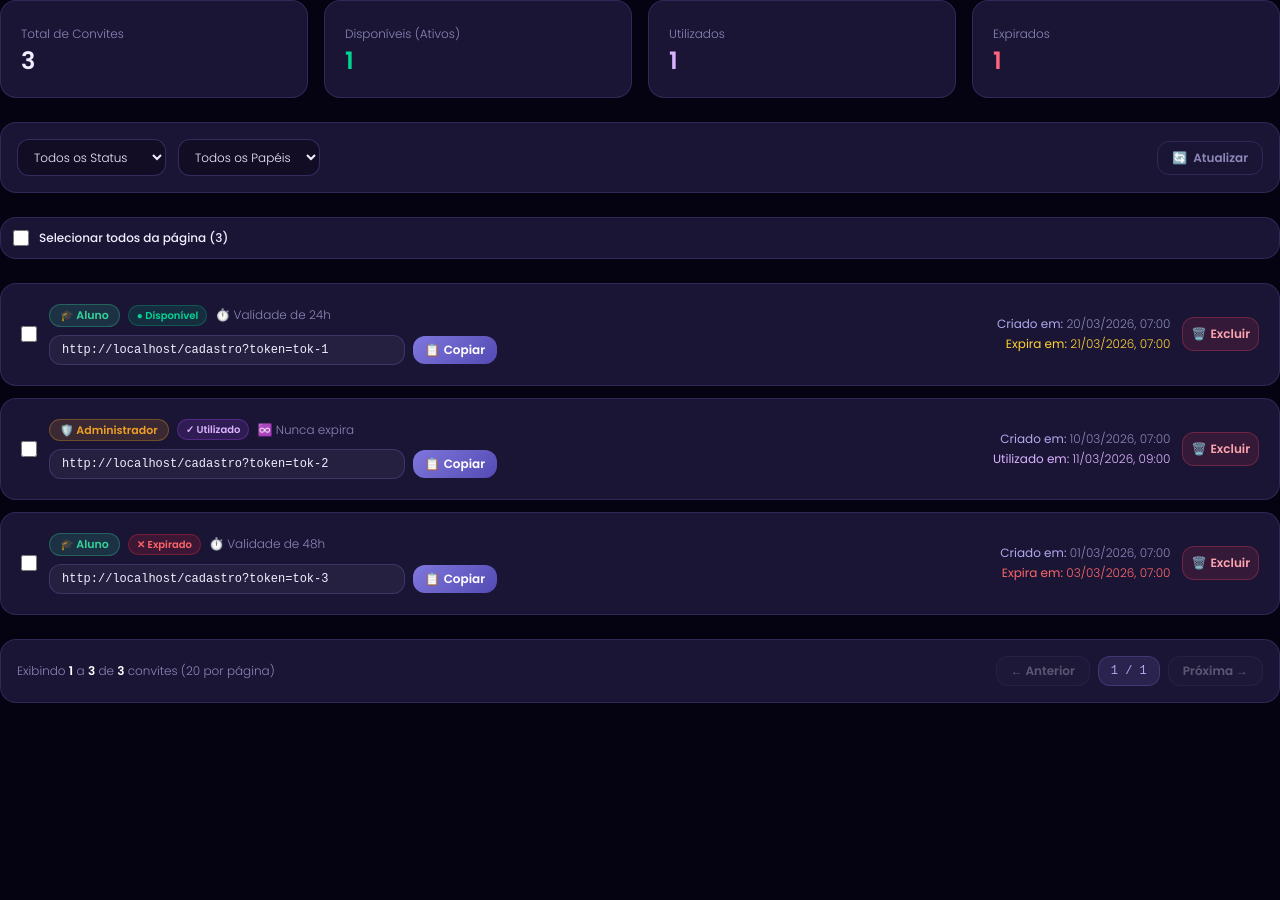
Test case: ListaConvites Component › permite selecionar e desmarcar todos os convites da página via checkbox mestre
This screenshot has width=1280, height=900.
Click the checkbox with test id "select-all-invites-btn".
click(21, 238)  # box top-left (13, 230), bottom-right (29, 246)
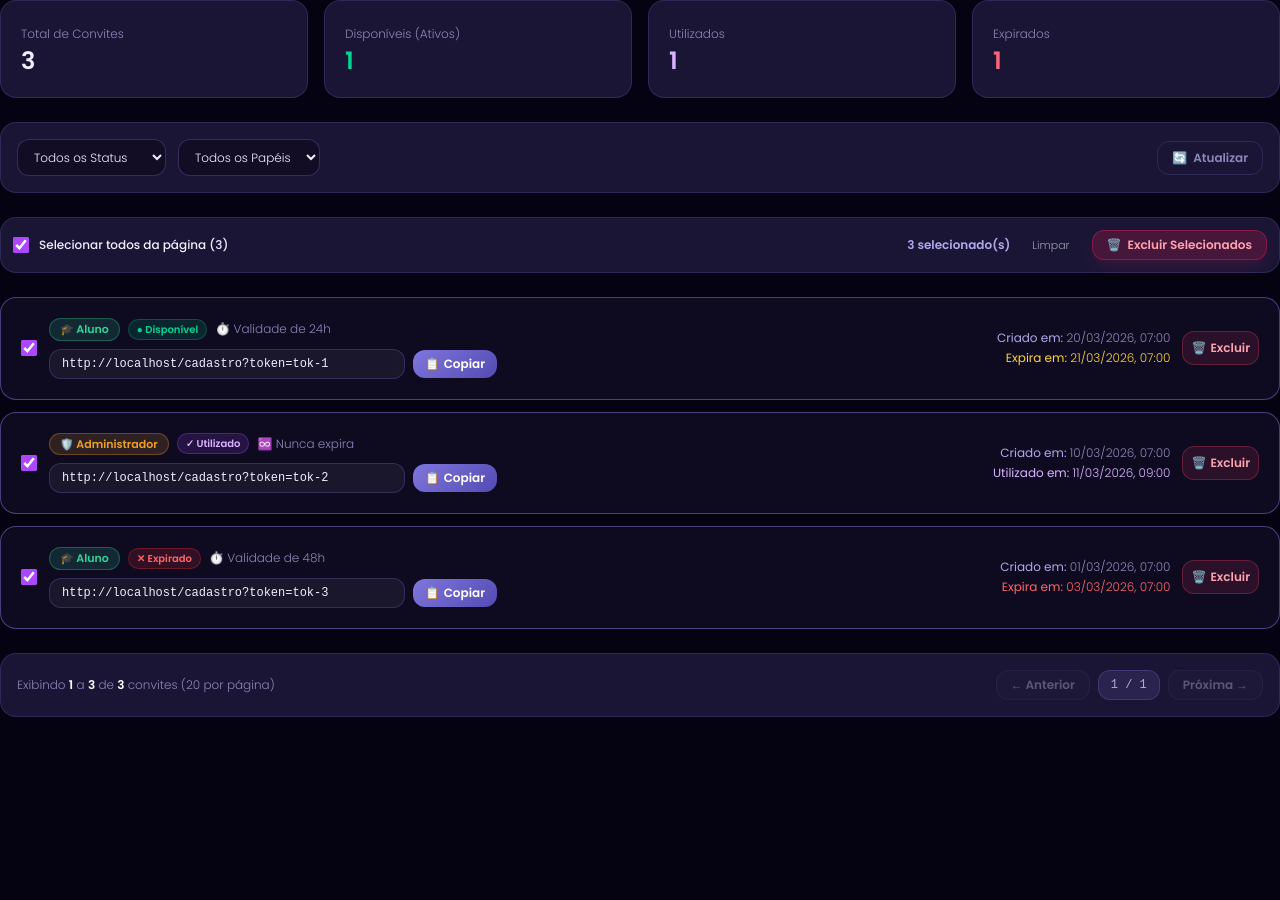
Check: the checkbox with test id "select-invite-inv-1" is checked, box top-left (21, 340), bottom-right (37, 356)
Check: the checkbox with test id "select-invite-inv-2" is checked, box top-left (21, 455), bottom-right (37, 471)
Check: the checkbox with test id "select-invite-inv-3" is checked, box top-left (21, 569), bottom-right (37, 585)
Click the checkbox with test id "select-all-invites-btn".
click(21, 245)  # box top-left (13, 237), bottom-right (29, 253)
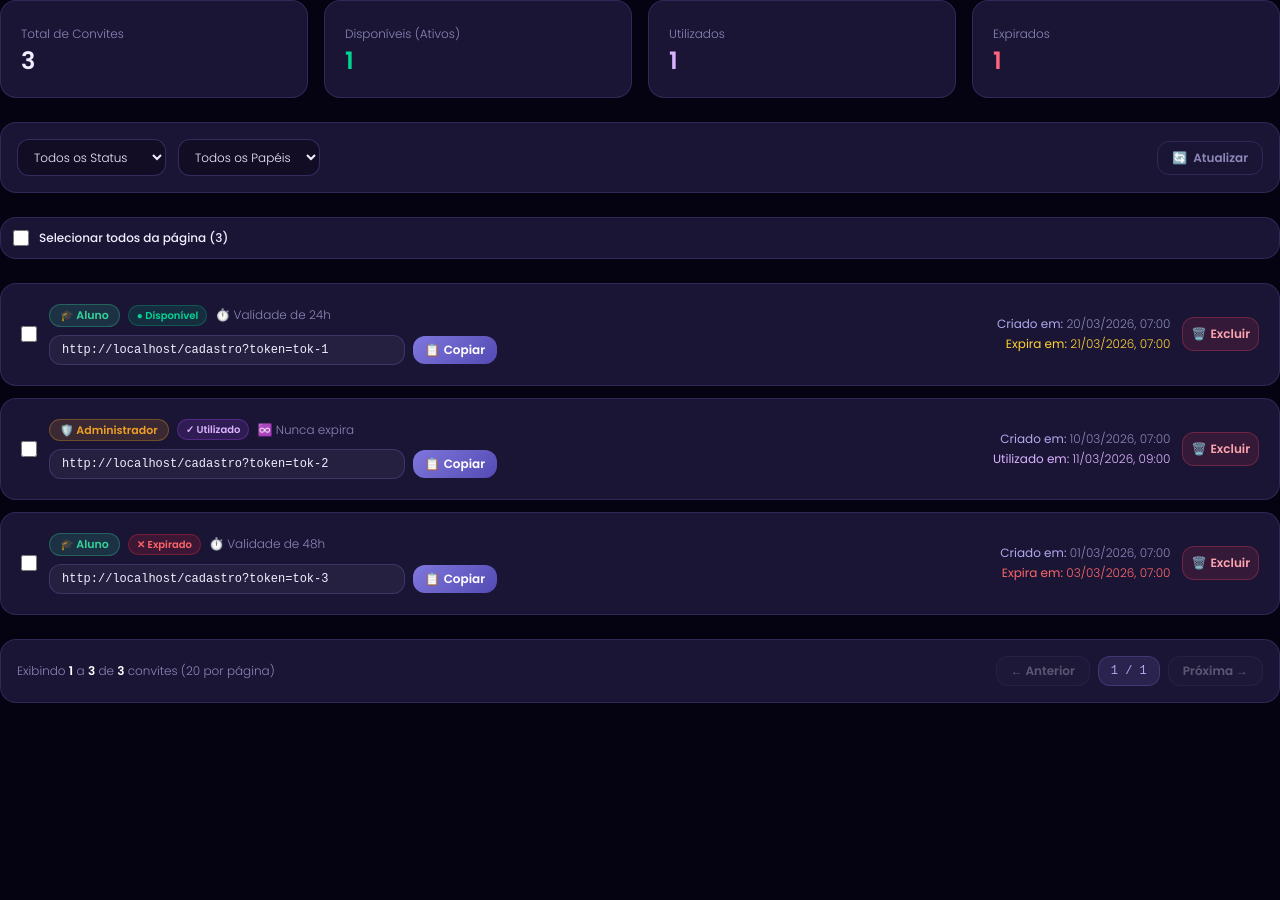
Check: the checkbox with test id "select-invite-inv-1" is not checked, box top-left (21, 326), bottom-right (37, 342)
Check: the checkbox with test id "select-invite-inv-2" is not checked, box top-left (21, 441), bottom-right (37, 457)
Check: the checkbox with test id "select-invite-inv-3" is not checked, box top-left (21, 555), bottom-right (37, 571)
